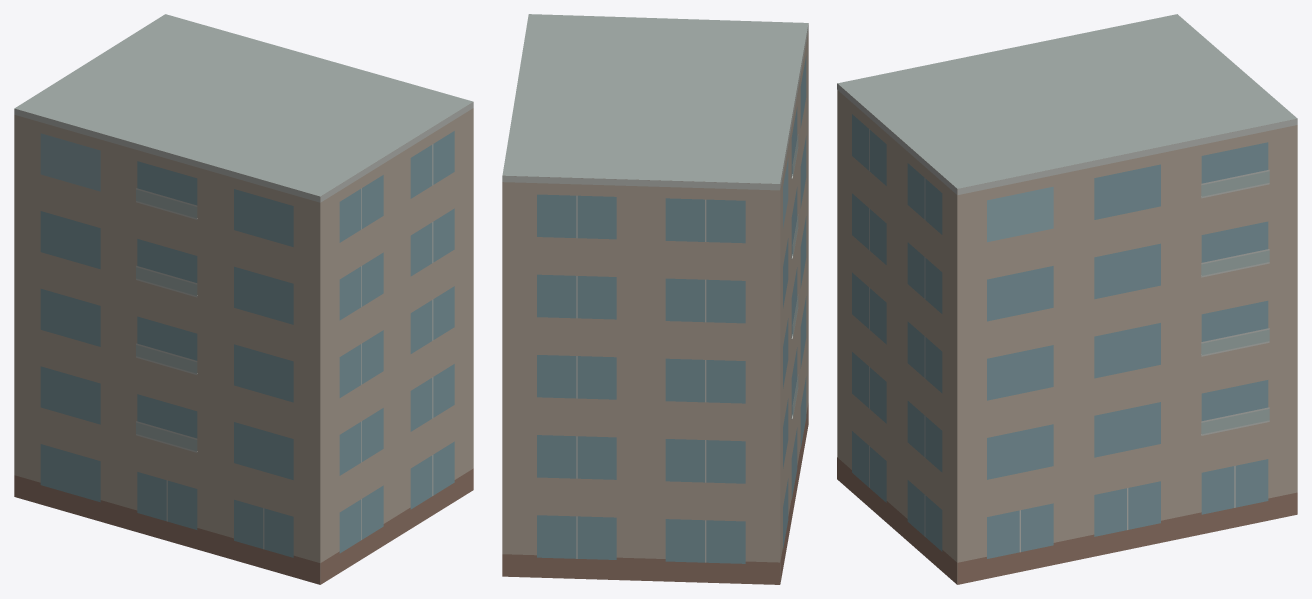
The model's file is survey-upis-32696685.glb.
3 views of the same model, side by side, from view 1: azimuth 30°, elevation 25°; view 2: azimuth 150°, elevation 25°; view 3: azimuth 270°, elevation 25° (orthographic). The views are drawn at different scales.
Visible parts, largest first — view 1: survey-upis-32696685.tmp; view 2: survey-upis-32696685.tmp; view 3: survey-upis-32696685.tmp.
Part boxes in pixels (bbox=[...]): survey-upis-32696685.tmp: bbox=[14, 14, 473, 584]; survey-upis-32696685.tmp: bbox=[502, 14, 808, 584]; survey-upis-32696685.tmp: bbox=[837, 14, 1297, 584].
Size of the model in its own units: 14.46 by 15.25 by 16.08.
